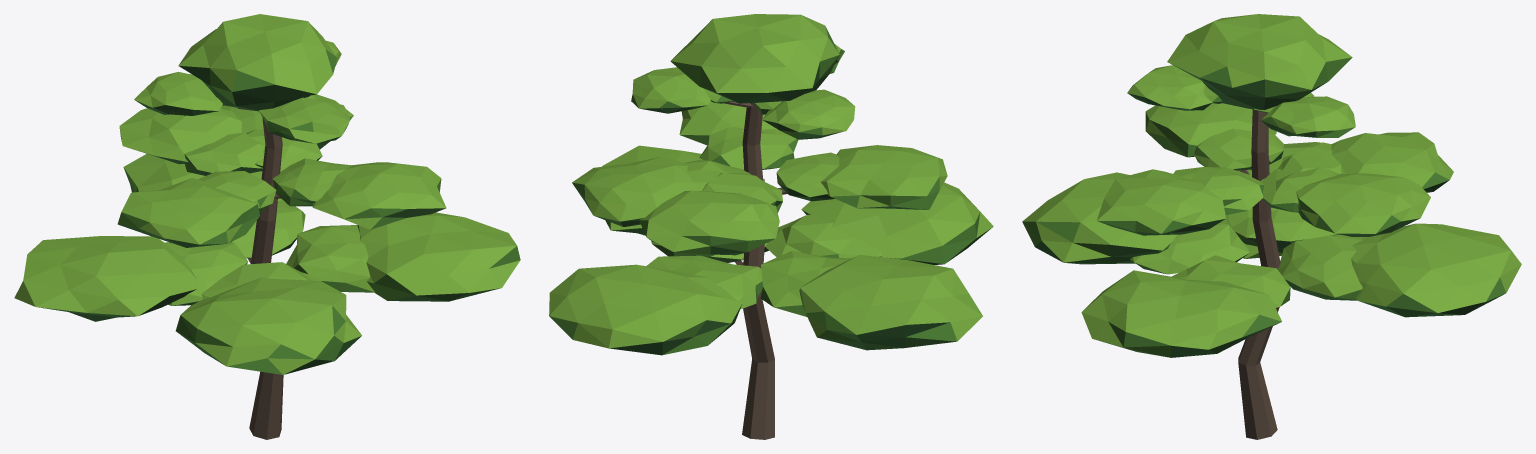
Rendered from T09_TieredTalisayStyleTree.glb.
3 renders of one model, left to right at view 1: azimuth 30°, elevation 25°; view 2: azimuth 150°, elevation 25°; view 3: azimuth 270°, elevation 25°, orthographic. The views are drawn at different scales.
Visible parts, largest first — view 1: T09_TieredTalisayStyleTree; view 2: T09_TieredTalisayStyleTree; view 3: T09_TieredTalisayStyleTree.
Boxes of the visible parts, bbox=[...] form: T09_TieredTalisayStyleTree: bbox=[14, 14, 520, 439]; T09_TieredTalisayStyleTree: bbox=[549, 14, 993, 439]; T09_TieredTalisayStyleTree: bbox=[1022, 14, 1521, 439].
Bounding box in the file's own units: 9.49 × 8.64 × 9.63.
